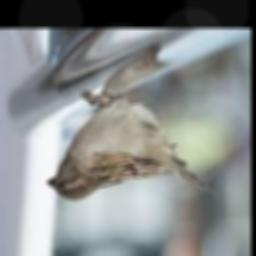Sparrow: (46, 91, 211, 199)
